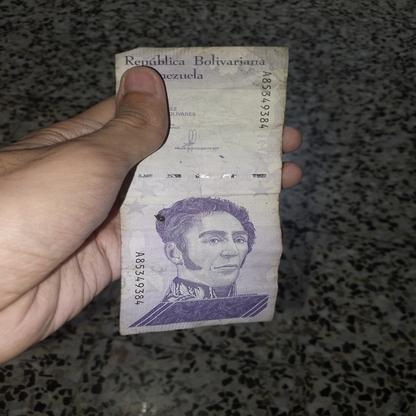ten-front-vef: (112, 44, 292, 338)
